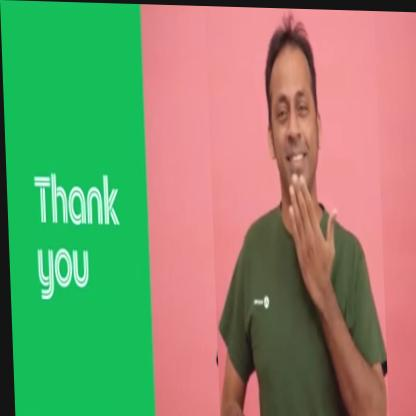ThankYou: (205, 7, 386, 416)
